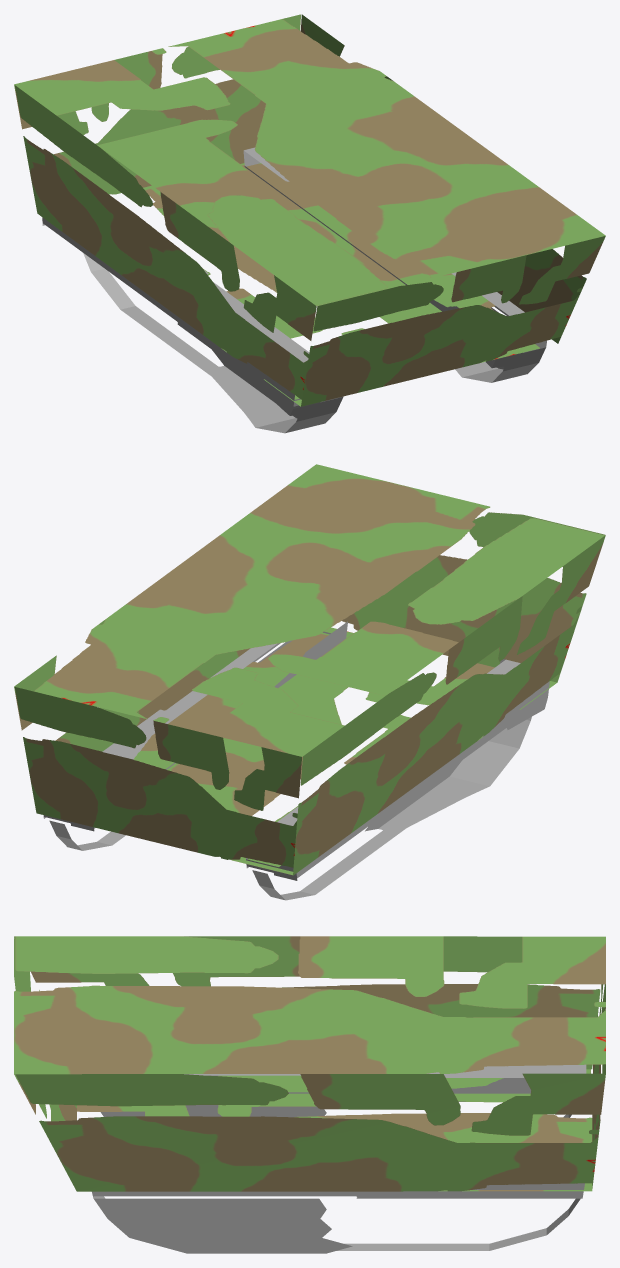
File: AATankBody.FBX
The picture shows the model from 3 angles, top to bottom: view 1: azimuth 30°, elevation 25°; view 2: azimuth 150°, elevation 25°; view 3: azimuth 270°, elevation 25°; orthographic projection. The views are drawn at different scales.
Visible parts, largest first — view 1: Box003; view 2: Box003; view 3: Box003.
Boxes of the visible parts, box(x1,y1,x2,y2) form: Box003: box(14, 14, 605, 433); Box003: box(14, 464, 605, 900); Box003: box(14, 936, 605, 1253).
Bounding box in the file's own units: 2.92 × 1.86 × 5.3.
1 material, 1 textured.
